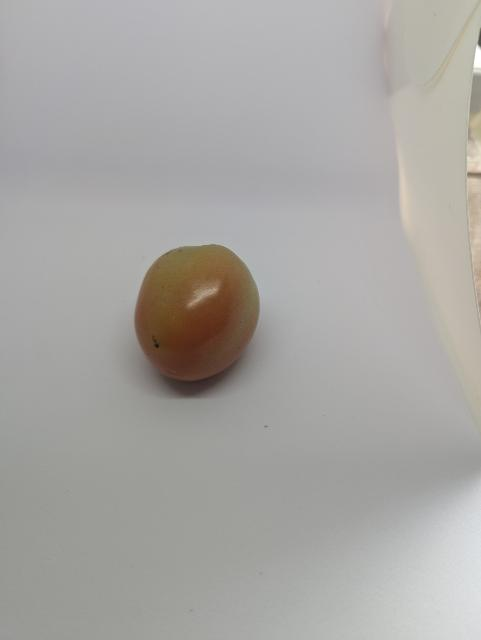turning: (132, 242, 268, 387)
